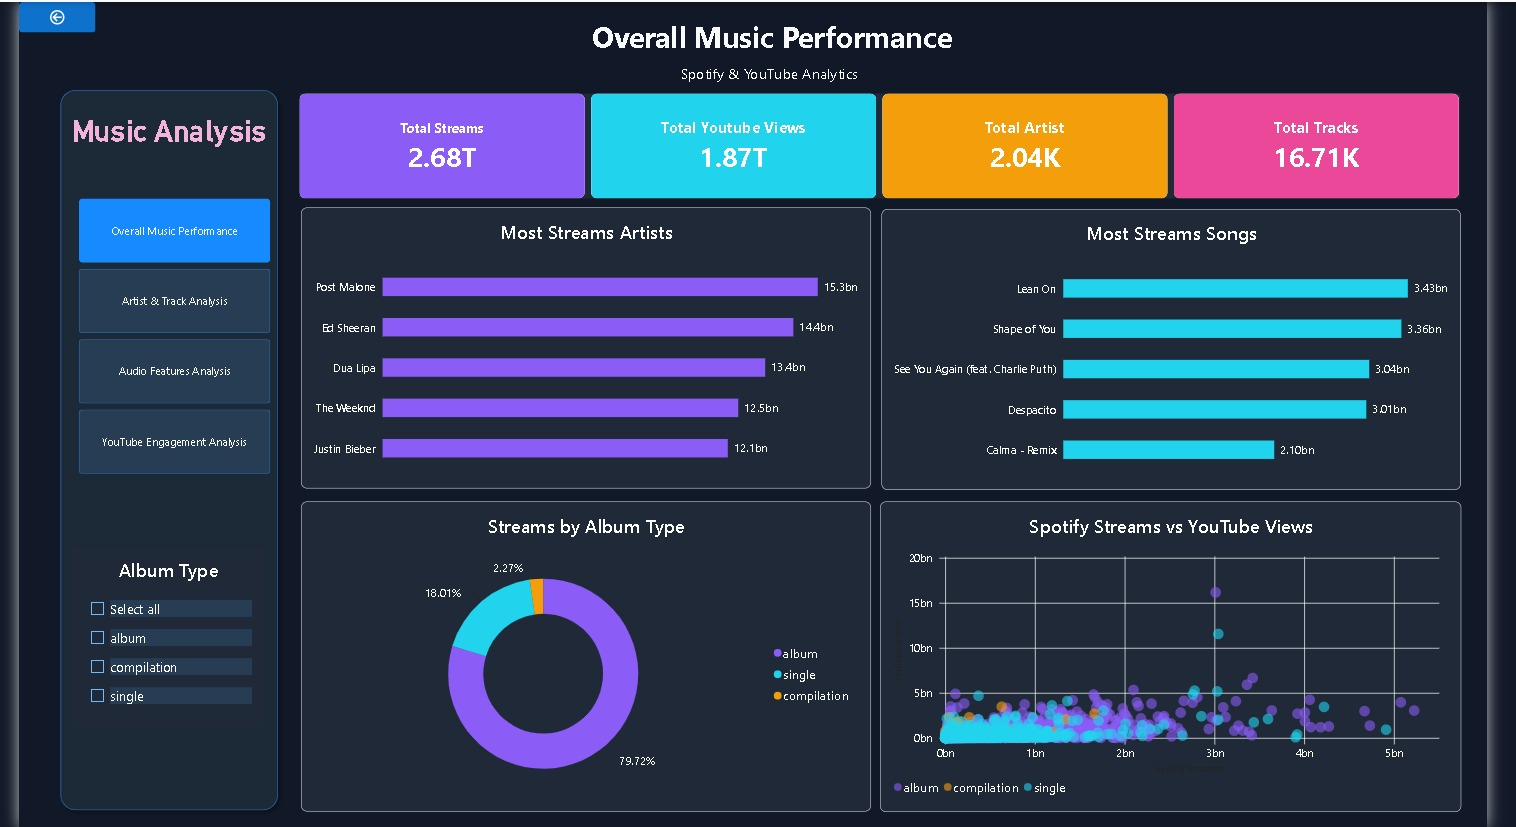

The dashboard page shown, as its layout file describes it:
{"tool":"powerbi","page":{"name":"\tOverall Music Performance","canvas":[1920,1080],"ordinal":0},"visuals":[{"type":"textbox","box":[532.5,20,902.5,60],"z":0},{"type":"cardVisual","fields":{"Data":["Spotify_Youtube Dataset.Total Streams","Spotify_Youtube Dataset.Total Youtube Views","Spotify_Youtube Dataset.Total Artist","Spotify_Youtube Dataset.Total Tracks"]},"box":[367.5,120,1517.5,137.5],"z":1000},{"type":"clusteredBarChart","title":"Most Streams Artists","fields":{"Category":["Spotify_Youtube Dataset.Artist"],"Y":["Spotify_Youtube Dataset.Total Streams"]},"box":[368.9,269.6,745,367.5],"z":2000},{"type":"clusteredBarChart","title":"Most Streams Songs","fields":{"Category":["Spotify_Youtube Dataset.Track"],"Y":["Sum(Spotify_Youtube Dataset.Stream)"]},"box":[1127.5,270,757.5,367.5],"z":3000},{"type":"donutChart","title":"Streams by Album Type","fields":{"Category":["Spotify_Youtube Dataset.Album_type"],"Y":["Spotify_Youtube Dataset.Total Streams"]},"box":[368.9,653.6,745,405],"z":4000},{"type":"scatterChart","title":"Spotify Streams vs YouTube Views","fields":{"Category":["Spotify_Youtube Dataset.Track"],"Series":["Spotify_Youtube Dataset.Album_type"],"X":["Sum(Spotify_Youtube Dataset.Stream)"],"Y":["Sum(Spotify_Youtube Dataset.Views)"]},"box":[1126,654,760,406],"z":5000},{"type":"actionButton","box":[0,0,100,40],"z":6000},{"type":"shape","box":[45,105,302.5,960],"z":7000},{"type":"textbox","box":[755,80,452.5,40],"z":8000},{"type":"pageNavigator","box":[77.5,257.5,250,360],"z":8001},{"type":"textbox","box":[68,145,300,90],"z":8002},{"type":"slicer","title":"Album Type","fields":{"Values":["Spotify_Youtube Dataset.Album_type"]},"box":[70,712.5,250,237.5],"z":8003}]}

Visuals, with their boxes on the page's 1920x1080 design canvas (x1, y1, x2, y2). These are canvas units, not pixel positions in the 1516x827 screenshot, which may show the page scaled, cropped or inside an application window:
textbox: locate(532, 20, 1435, 80)
cardVisual - Spotify_Youtube Dataset.Total Streams x Spotify_Youtube Dataset.Total Youtube Views: locate(368, 120, 1885, 258)
"Most Streams Artists" clusteredBarChart: locate(369, 270, 1114, 637)
"Most Streams Songs" clusteredBarChart: locate(1128, 270, 1885, 638)
"Streams by Album Type" donutChart: locate(369, 654, 1114, 1059)
"Spotify Streams vs YouTube Views" scatterChart: locate(1126, 654, 1886, 1060)
actionButton: locate(0, 0, 100, 40)
shape: locate(45, 105, 348, 1065)
textbox: locate(755, 80, 1208, 120)
pageNavigator: locate(78, 258, 328, 618)
textbox: locate(68, 145, 368, 235)
"Album Type" slicer: locate(70, 712, 320, 950)
